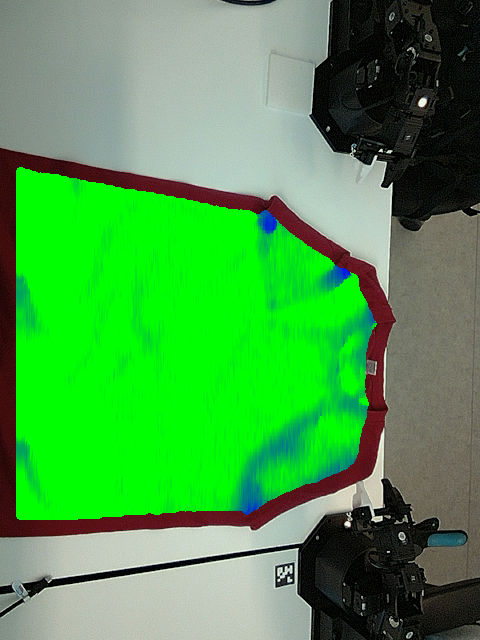V: (259, 274, 307, 321)
